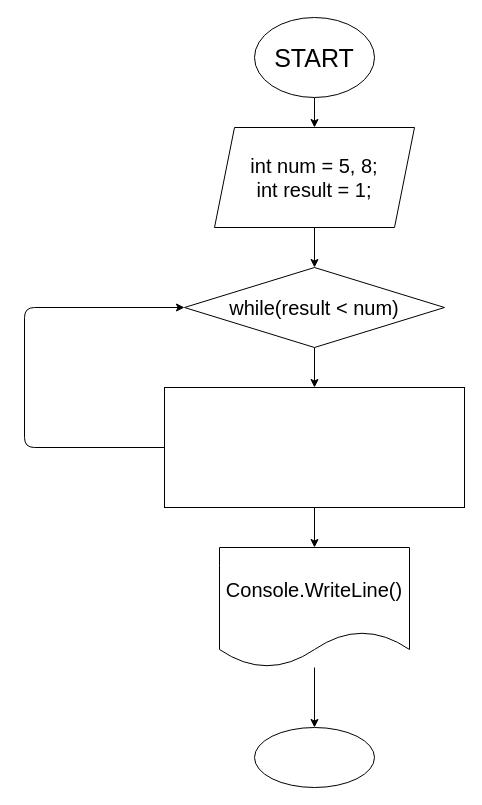
This 482x805 diagram has some shape labels left out. Here are the shapes that lost their labels. From the top down, the centre of each, then its label:
the point at 314,447: Console.WriteLine(result + 1); result +=2;
the point at 314,757: END
